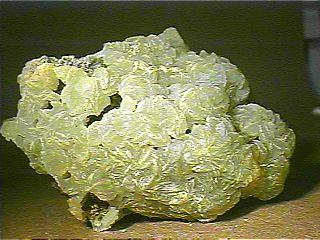prehnite: (1, 28, 296, 220), (54, 66, 110, 114), (37, 63, 58, 94)
